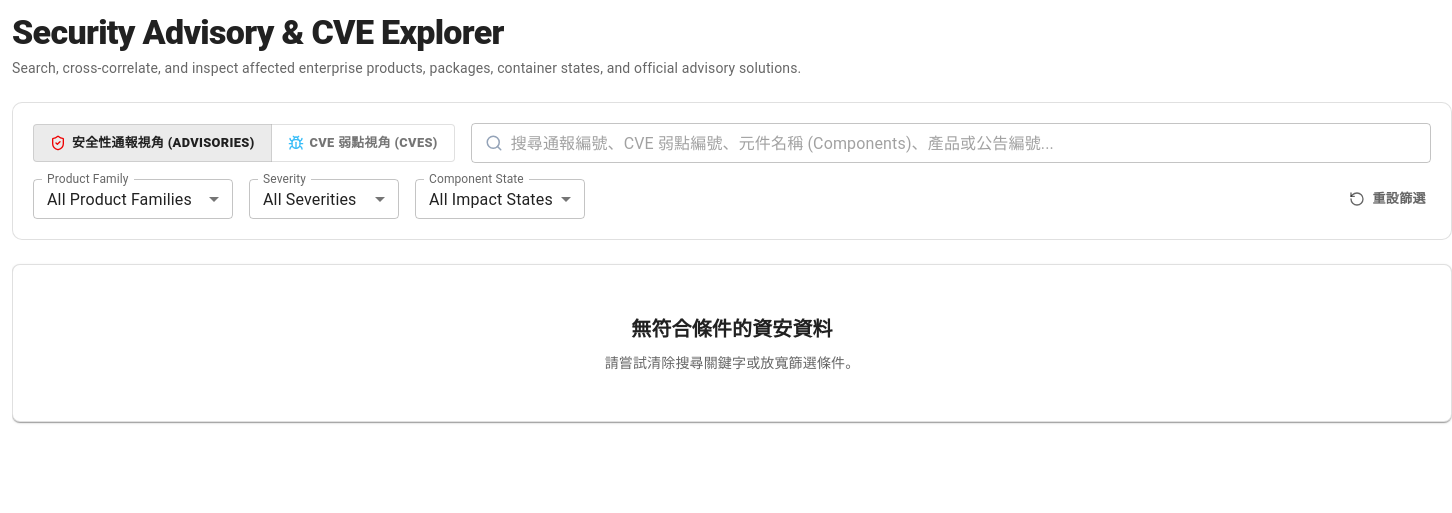
Test: ExplorerPage direct-fetch is gated to authenticated admins (R2) › offers the direct-fetch control to an authenticated admin
Step 1. Type "CVE-2026-9999" into the field → (971, 143), box 511,123 -> 1431,163
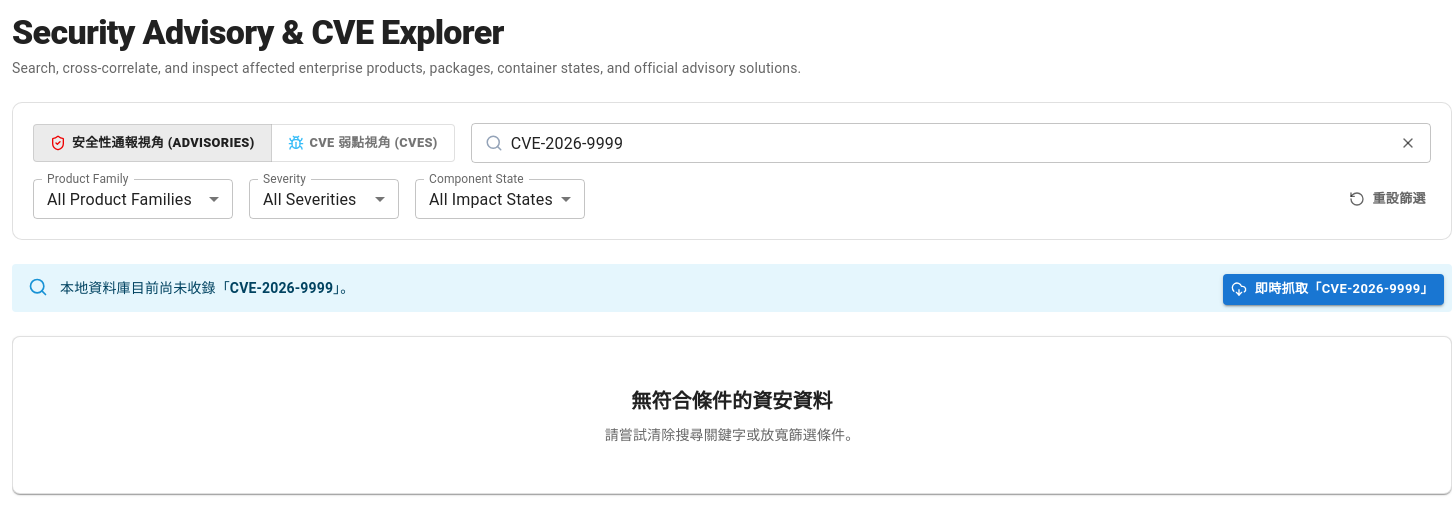
Expected: the button "即時抓取「CVE-2026-9999」" is shown, 1223,274 -> 1444,305
